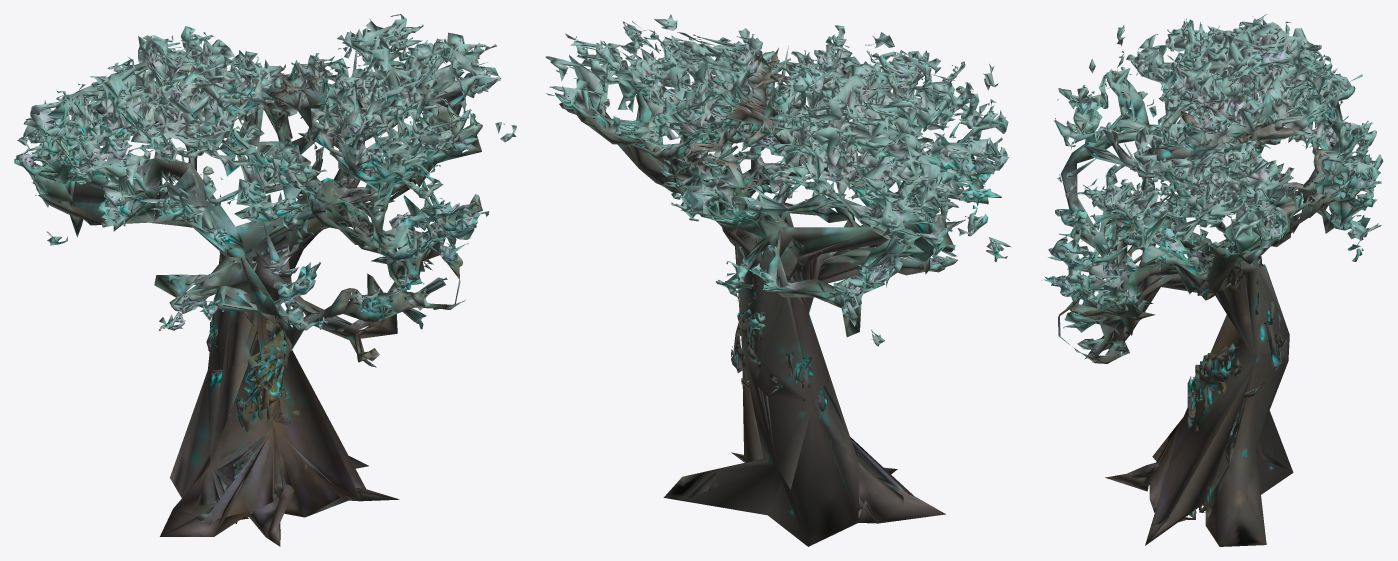
File: AncientTree2.glb
3 renders of one model, left to right at view 1: azimuth 30°, elevation 25°; view 2: azimuth 150°, elevation 25°; view 3: azimuth 270°, elevation 25°, orthographic. The views are drawn at different scales.
Size of the model in its own units: 1.91 by 1.96 by 1.37.
1 material, 1 textured.
